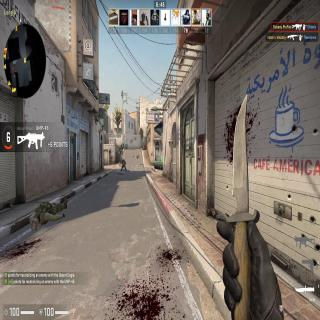CT-Body: (120, 159, 126, 170), (120, 143, 124, 154)
CT-Head: (122, 159, 124, 162), (121, 144, 122, 146)
